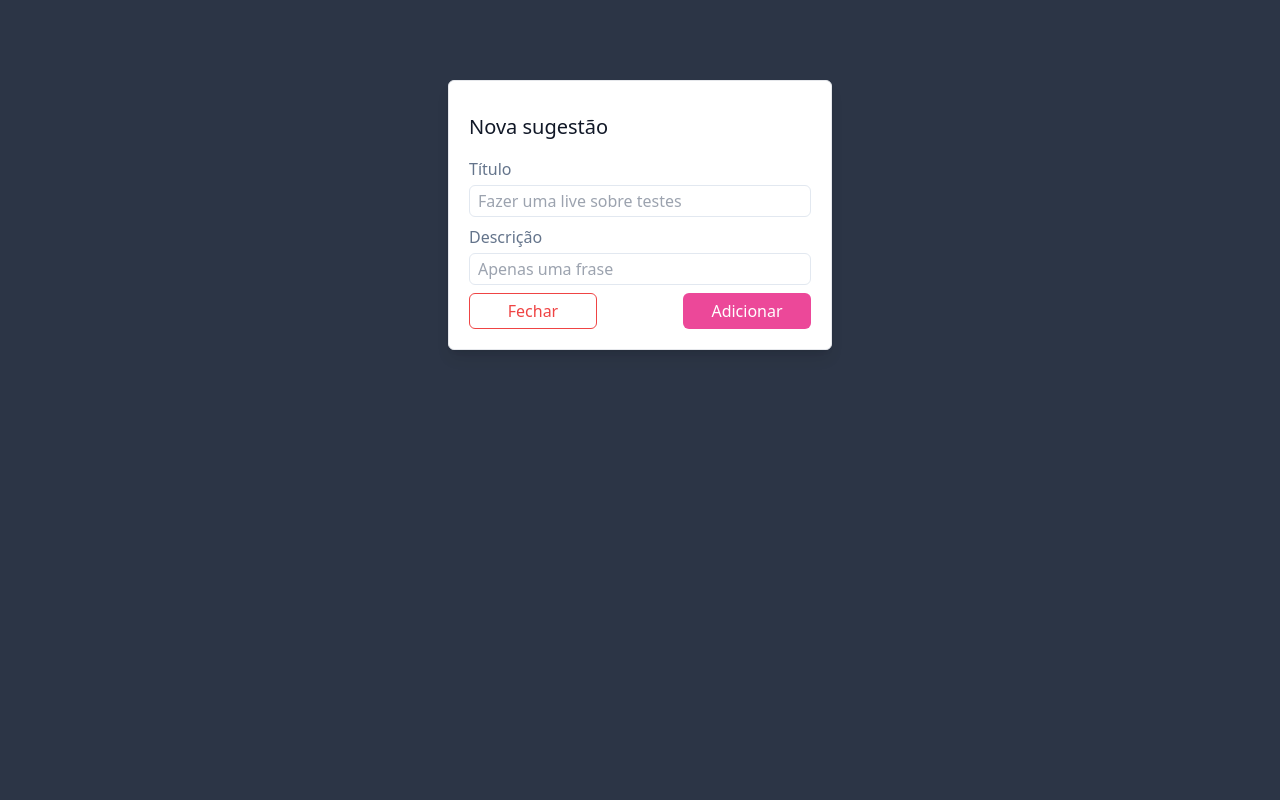
Test: <NewSuggestion /> › should display error message if title or description is empty
Click the button "Adicionar". click: click(747, 311)
box: 683,293 -> 811,329
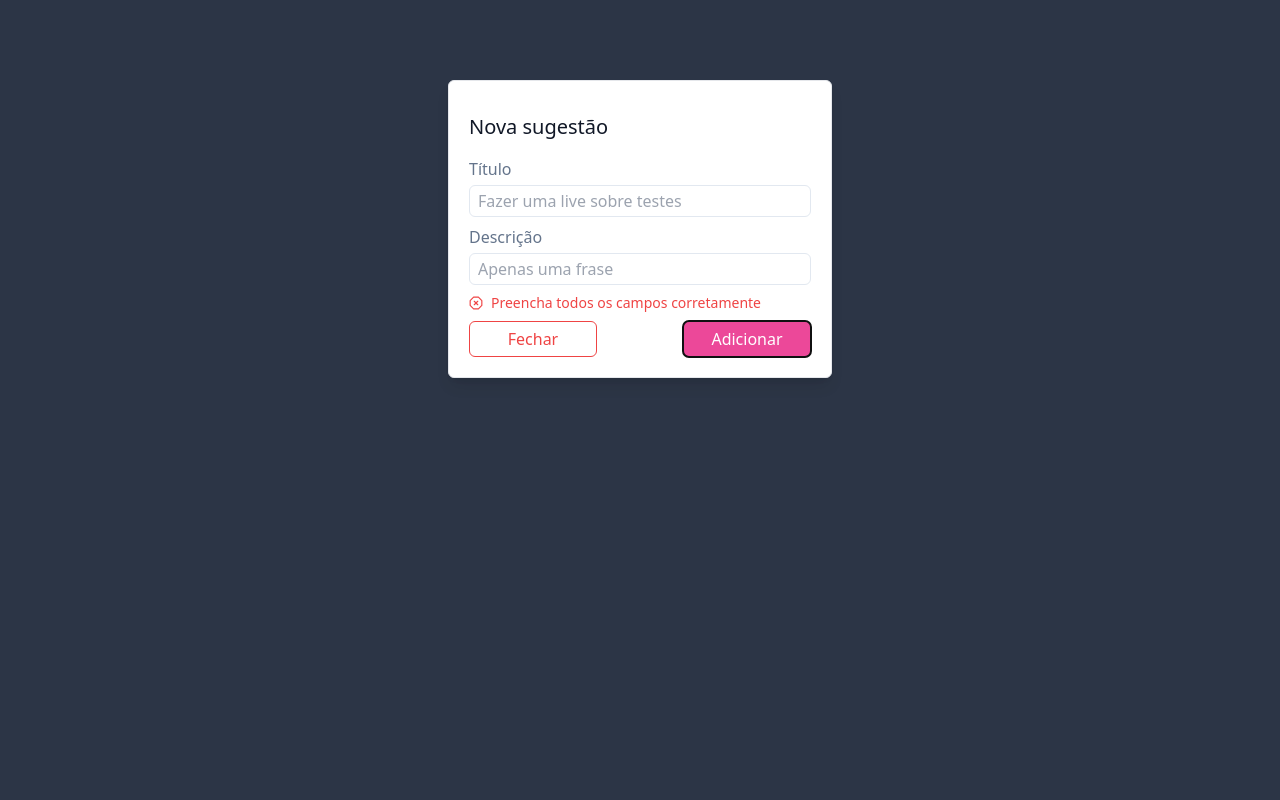
Check: the text "Preencha todos os campos corretamente" is shown, box 491,293 -> 761,313
